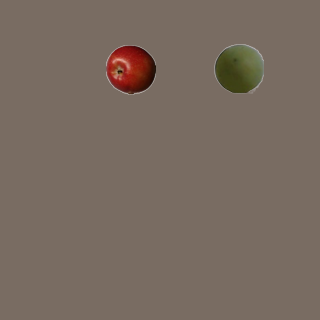Apple Braeburn: (105, 44, 155, 94)
Grape White 4: (213, 43, 263, 93)
